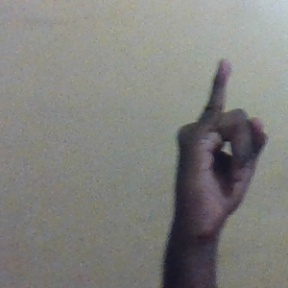I: (171, 56, 270, 239)
